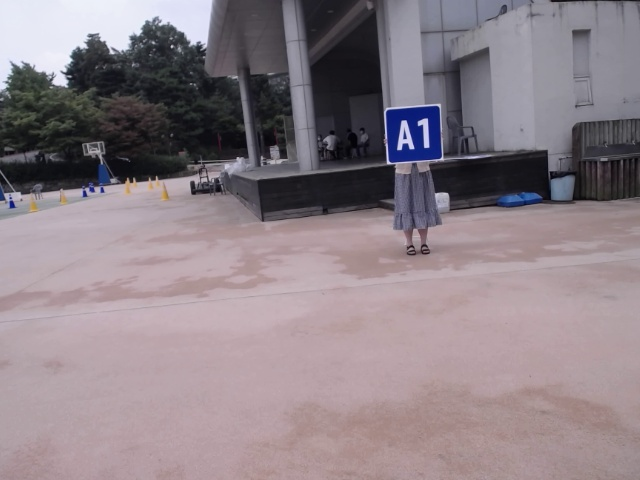delivery_a1: (385, 106, 444, 164)
